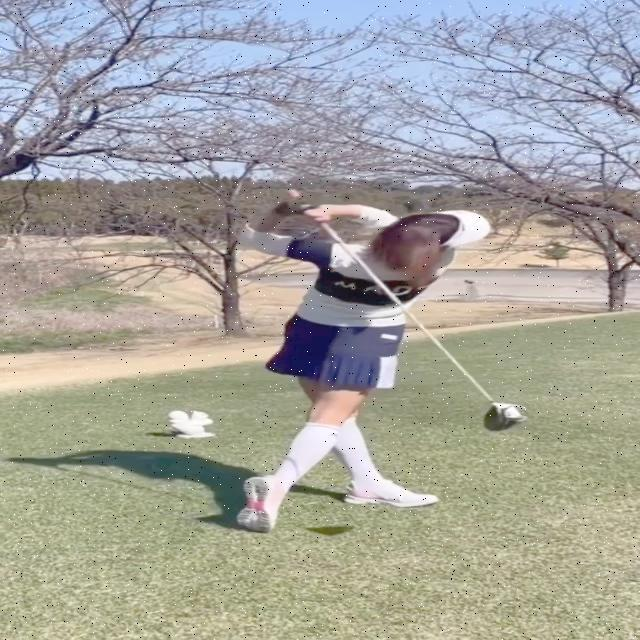golf club-handle: (292, 190, 532, 432)
golf club-head: (481, 401, 532, 431)
